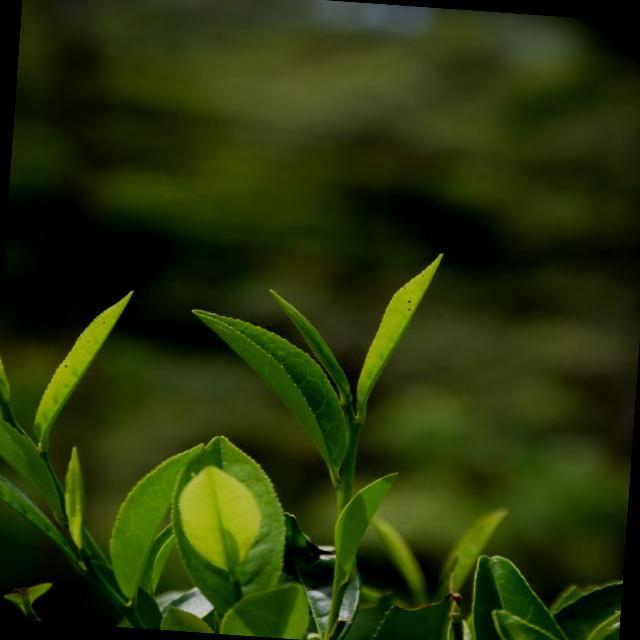Stem: (350, 423, 361, 436)
